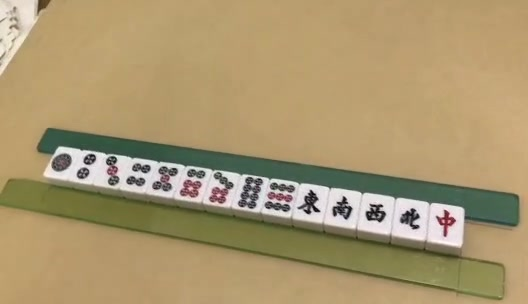1p: (51, 153, 72, 172)
1z: (297, 189, 320, 214)
2p: (76, 155, 96, 180)
2z: (333, 195, 352, 220)
3p: (106, 156, 120, 185)
3z: (366, 204, 386, 223)
4p: (126, 163, 151, 187)
4z: (400, 209, 421, 230)
5p: (152, 167, 179, 192)
6p: (181, 169, 206, 199)
7p: (208, 171, 233, 202)
7z: (436, 209, 456, 236)
8p: (238, 177, 263, 209)
9p: (264, 181, 294, 211)
